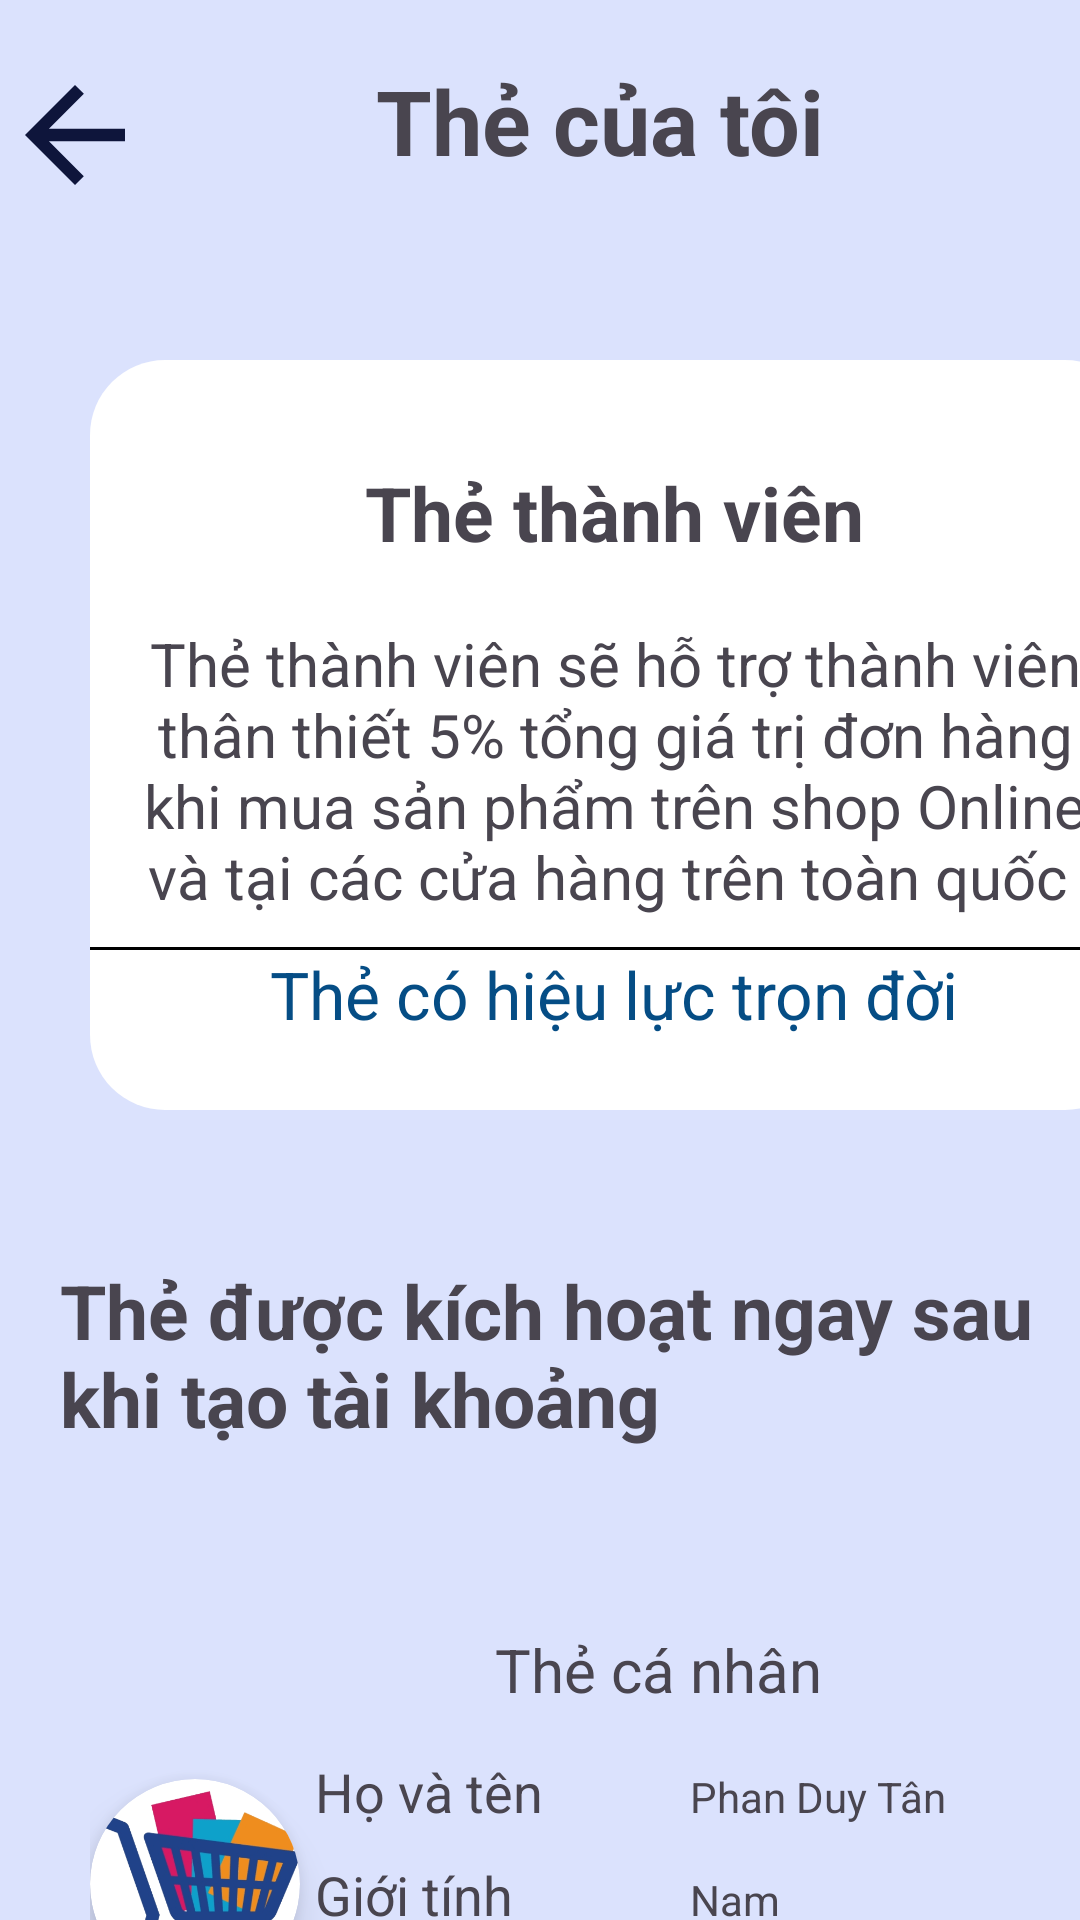

Named icons in this screenshot (1080×1920) and their centers, point (x, y):
previou: point (75, 135)
